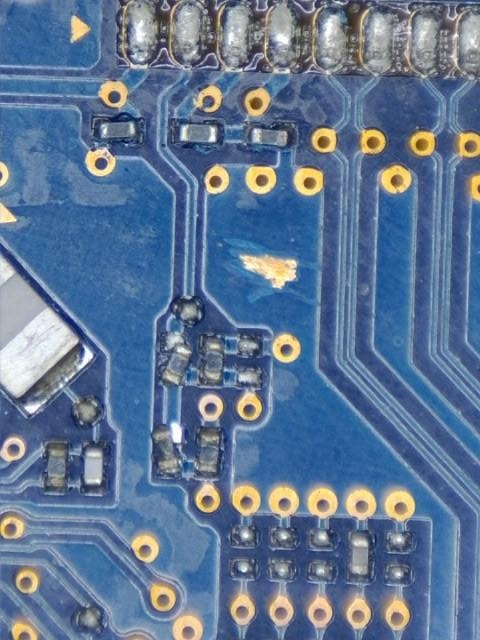pcb_defect: (123, 0, 159, 63), (219, 2, 253, 67), (409, 10, 442, 74), (363, 8, 396, 72), (171, 4, 205, 66), (315, 7, 347, 68), (241, 254, 296, 288), (267, 6, 296, 67), (159, 334, 192, 386), (152, 422, 182, 477), (458, 10, 480, 76)
